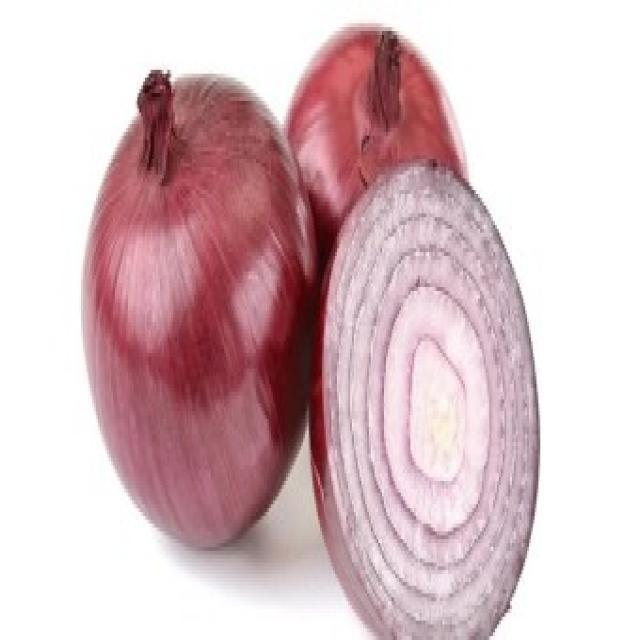Onion: (68, 55, 312, 590), (311, 147, 554, 640), (300, 5, 478, 207)
